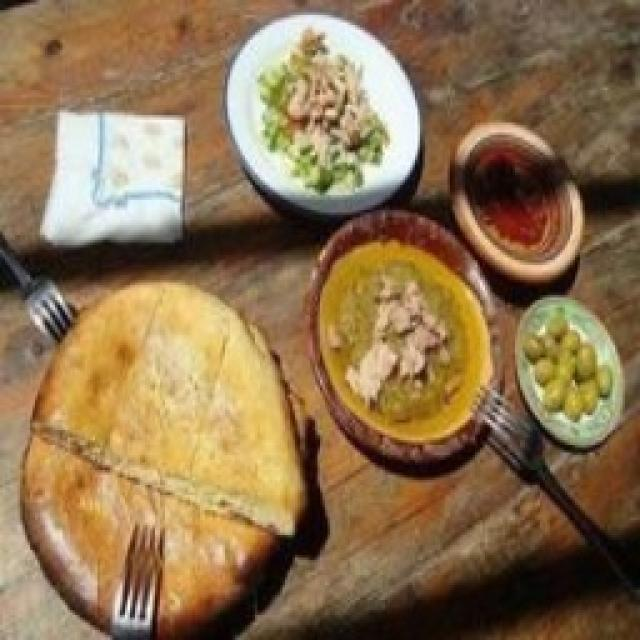Harissa: (451, 125, 579, 283)
